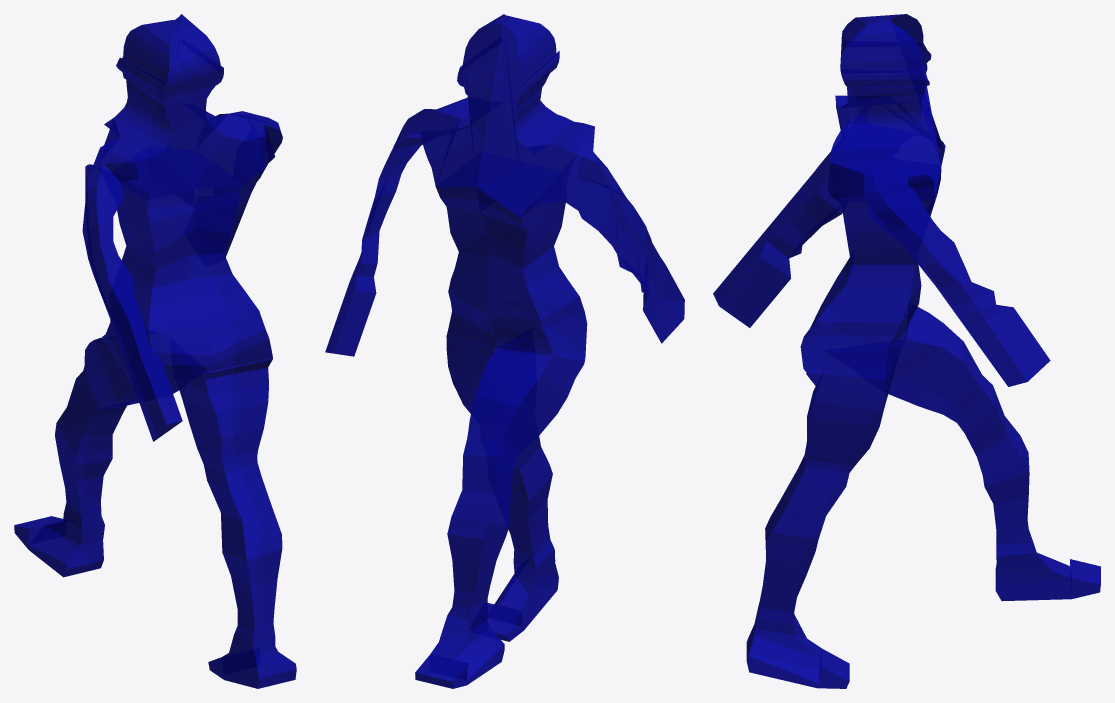
The model's file is woman_000016.obj.
3 views of the same model, side by side, from view 1: azimuth 30°, elevation 25°; view 2: azimuth 150°, elevation 25°; view 3: azimuth 270°, elevation 25° (orthographic).
Parts seen in each view (by area): view 1: Cube_Cube.001; view 2: Cube_Cube.001; view 3: Cube_Cube.001.
Part boxes in pixels (<box>): Cube_Cube.001: <box>14,14,296,688</box>; Cube_Cube.001: <box>325,14,684,688</box>; Cube_Cube.001: <box>713,14,1100,688</box>.
Size of the model in its own units: 3.58 by 9.98 by 5.45.
